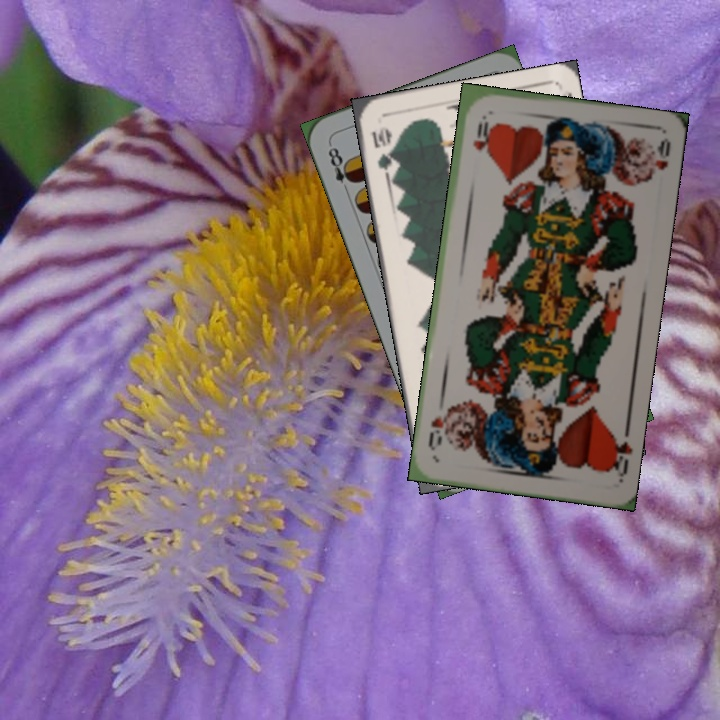E8: (324, 139, 358, 196)
G10: (367, 122, 396, 179)
HO: (604, 431, 634, 482), (469, 111, 491, 153)
